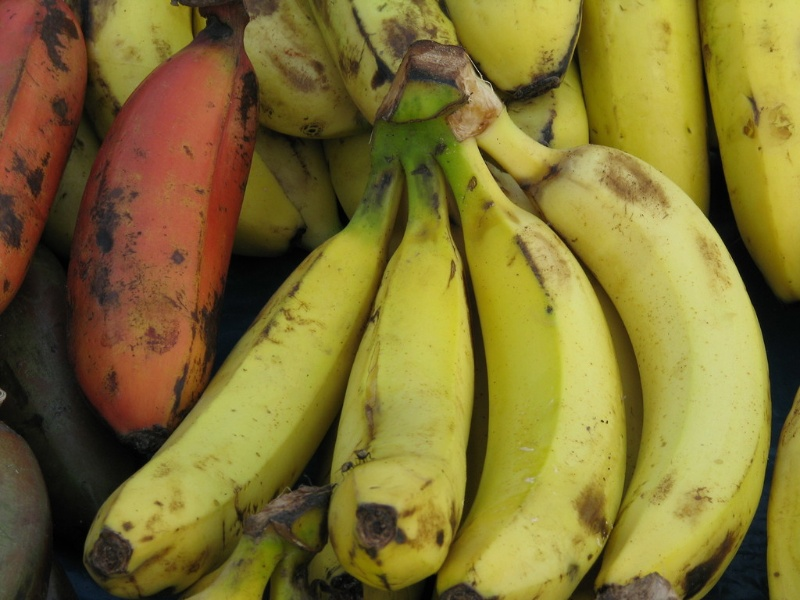banana: (347, 36, 776, 600), (99, 183, 338, 598), (82, 2, 260, 448), (452, 2, 800, 159), (1, 2, 87, 328)
